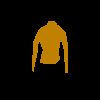maglia: (31, 21, 68, 73)
